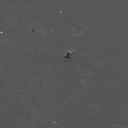corrosion: (64, 50, 73, 60)
